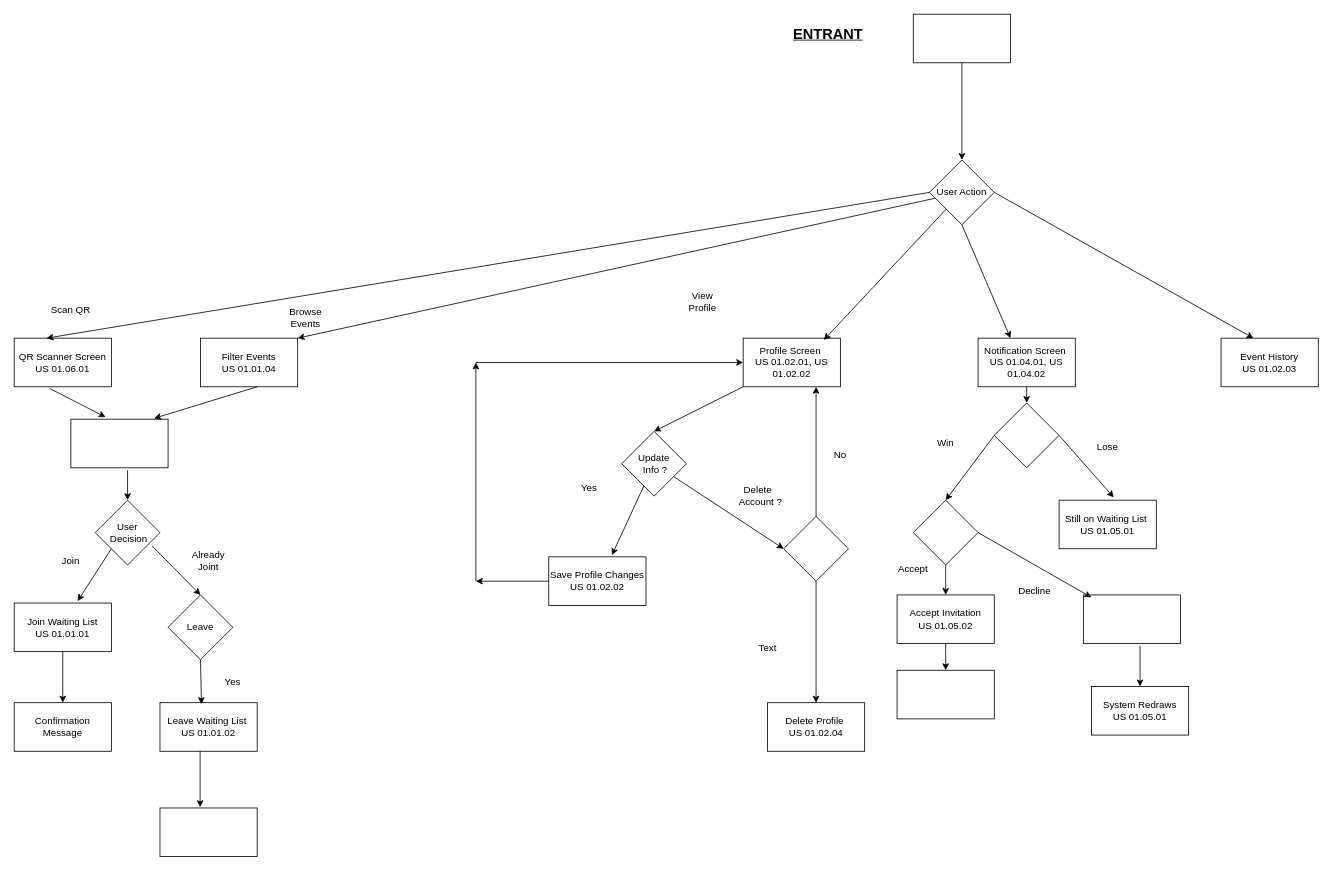
Image size: 1332x871. Some labels were removed from this diagram. Here are the shapes that lost their labels. From the top down, the box of each, then its label:
(912, 13, 1010, 63): Entrant Hoime Screen US 01.01.03
(70, 418, 168, 468): Event Detail Screen US 01.06.02, US 01.05.04, 01.05.05
(993, 402, 1059, 468): Notification Type
(783, 516, 848, 581): Confirm
(912, 499, 978, 565): Accept/ Decline
(1083, 594, 1181, 644): Decline Invitation US 01.05.03
(896, 669, 994, 719): Enrolled in Event
(159, 807, 257, 857): Removed from Waiting List
